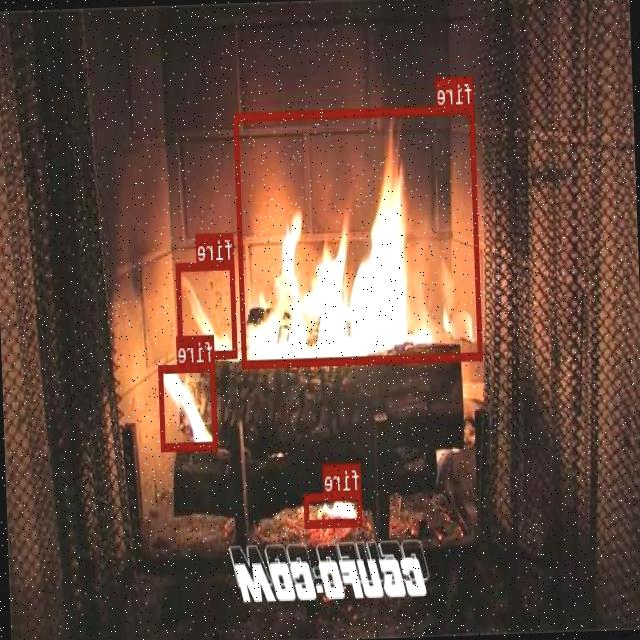fire: (235, 103, 482, 367), (176, 260, 238, 358), (159, 362, 218, 449), (304, 490, 362, 526)
